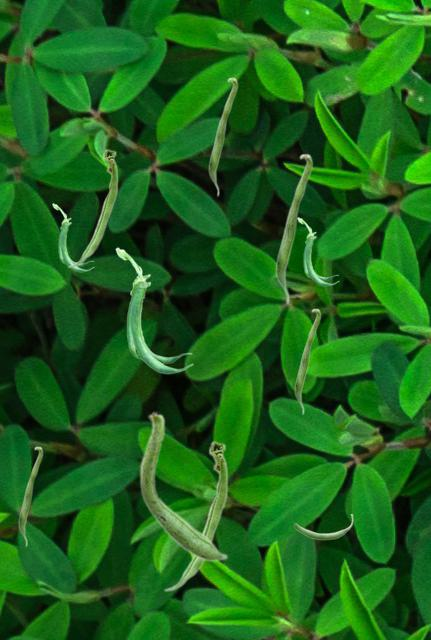french_bean: (139, 410, 227, 561), (115, 247, 192, 373), (163, 440, 227, 591), (67, 148, 117, 267), (275, 153, 312, 304), (208, 77, 237, 196), (52, 203, 93, 271), (294, 308, 320, 414), (298, 217, 338, 285), (18, 446, 42, 546), (294, 514, 352, 539)
